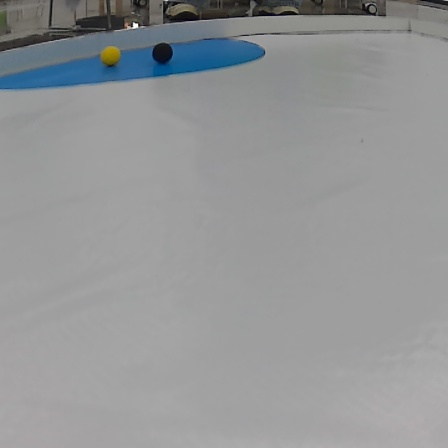black: (151, 42, 174, 65)
blue_base: (0, 36, 270, 88)
yellow: (99, 44, 121, 67)
